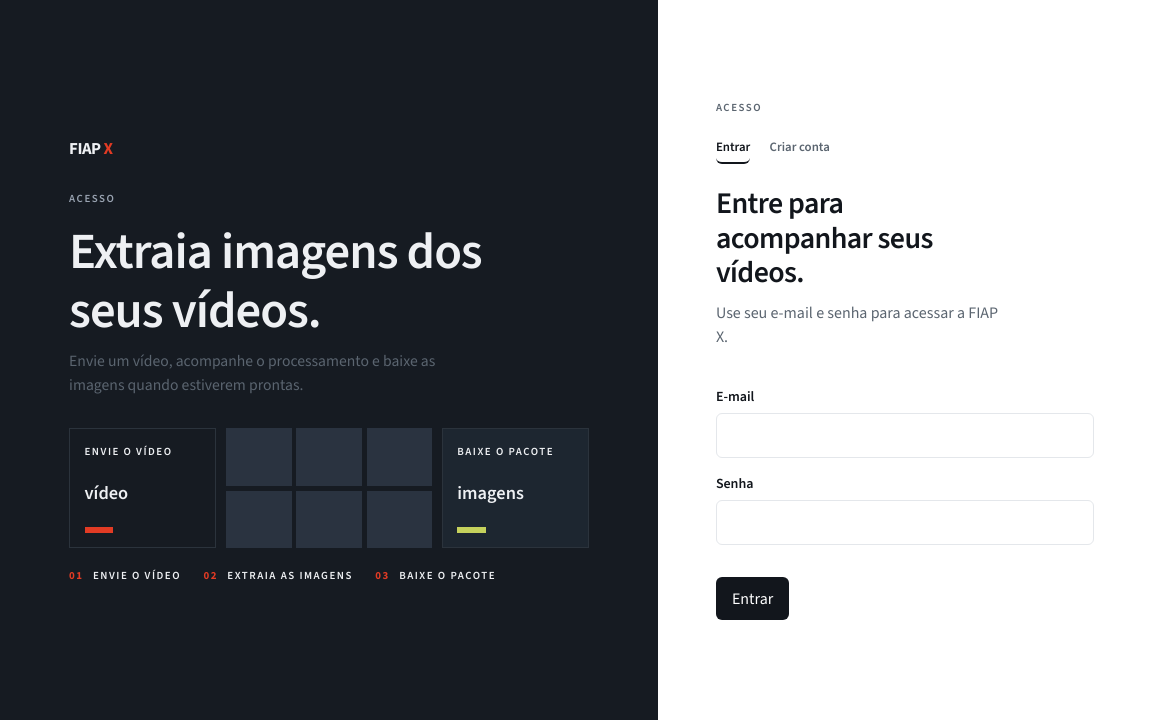
Test: authenticated product › shows an empty list without scenario controls
Type "demo@fiapx.local" into the field labelled "E-mail" at (905, 436), box [716,413,1094,458]
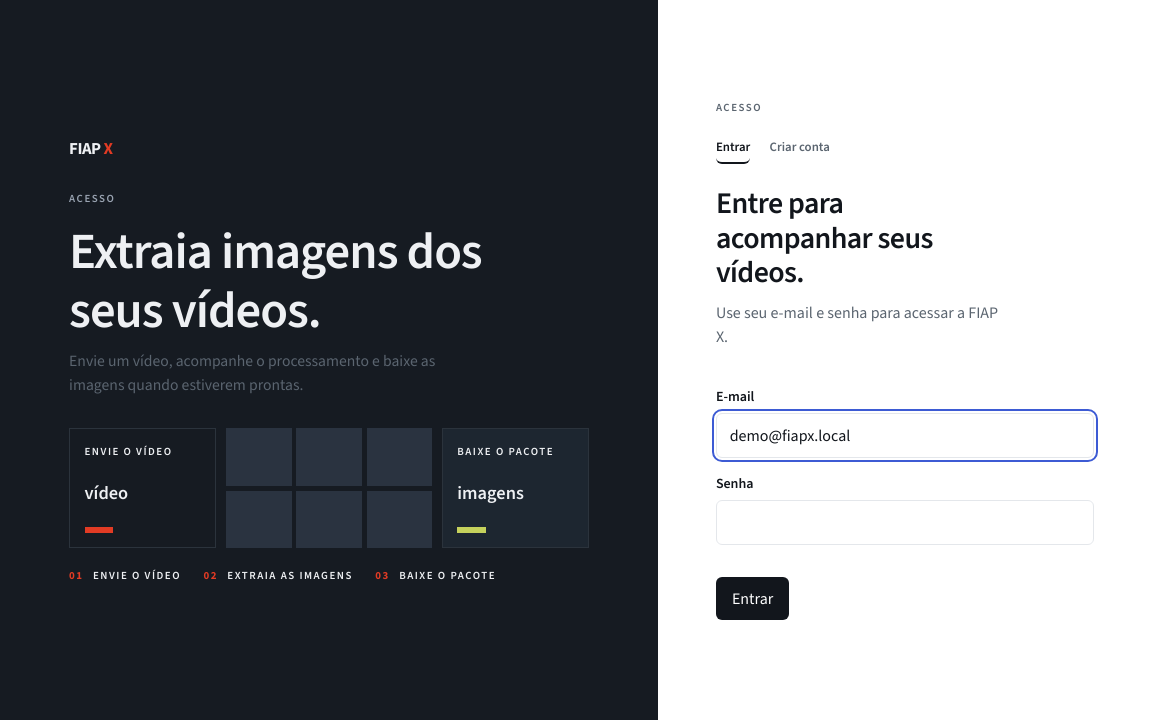
Type "MockPassword123!" into the password field labelled "Senha" at (905, 522), box [716,500,1094,545]
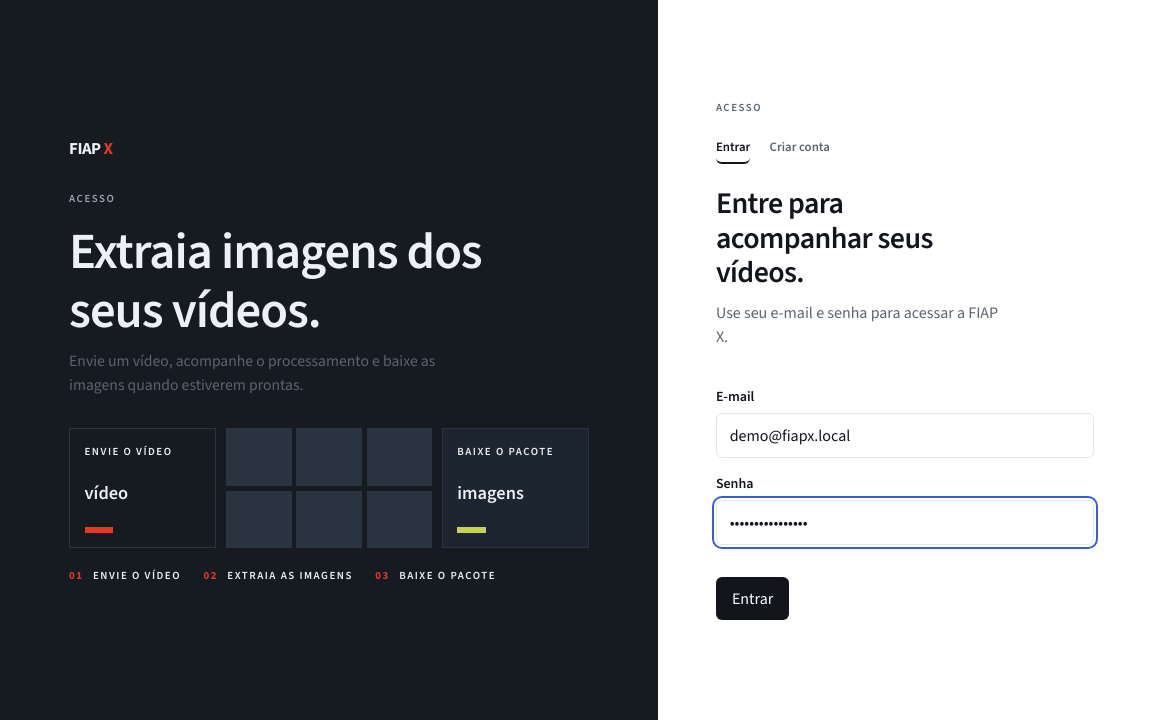
Click the button "Entrar" at (753, 599), box [716,577,789,620]
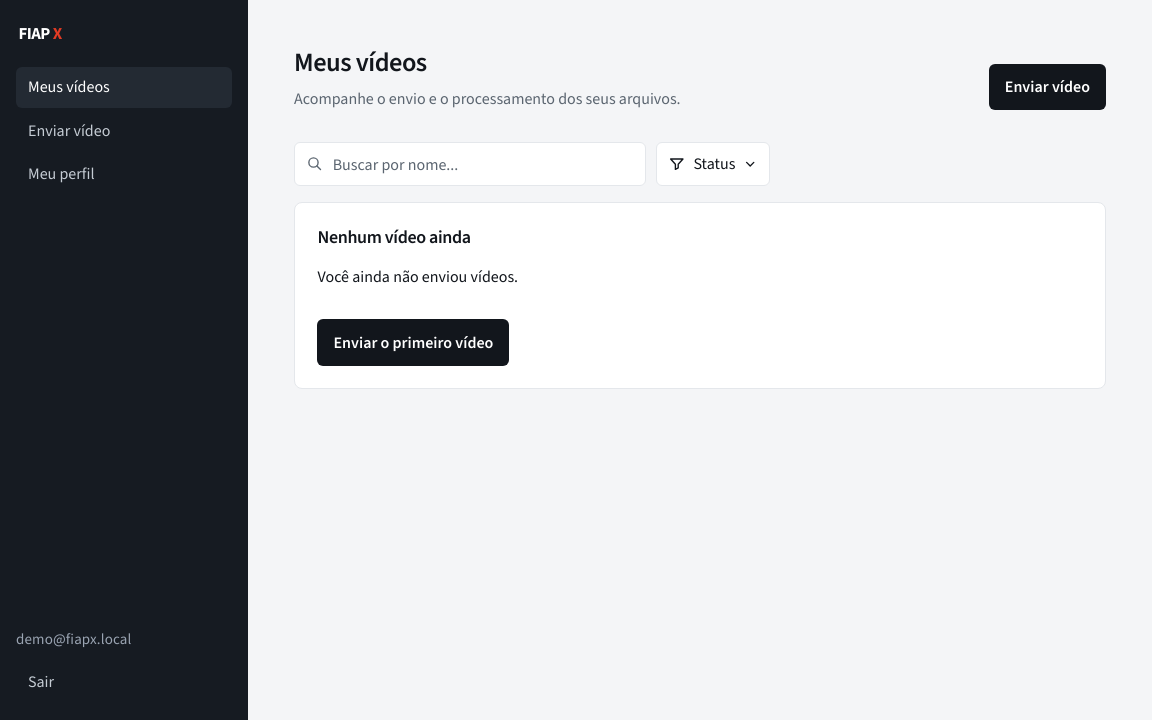
expect the heading "Meus vídeos" is shown: met, box [294,45,427,80]
expect the text "Você ainda não enviou vídeos." is shown: met, box [318,266,518,287]
expect the button "Enviar o primeiro vídeo" is shown: met, box [318,319,509,366]
